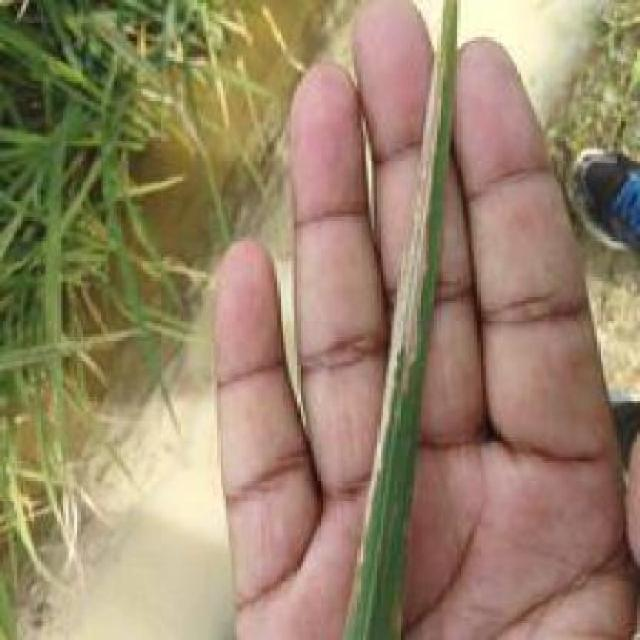Brown_Spot: (363, 57, 423, 552)
